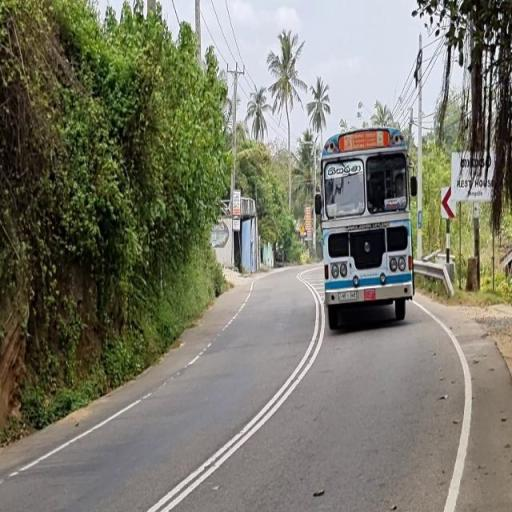double_white_line: (142, 274, 326, 512)
